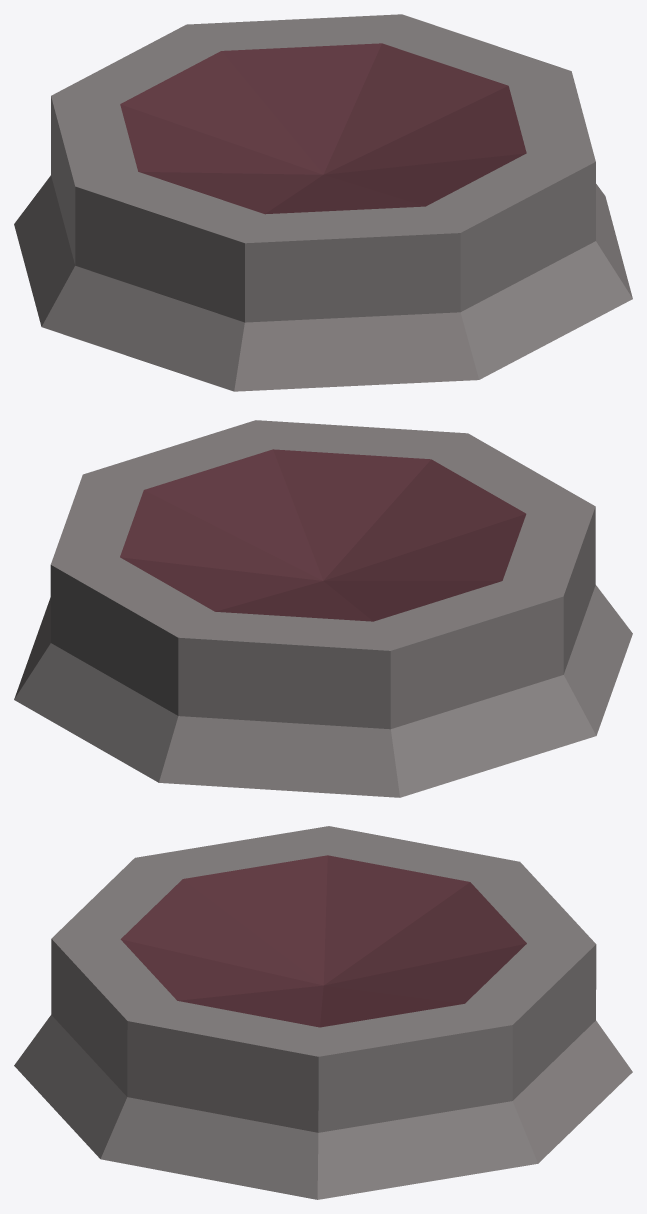
Rendered from train-wheel-apocalypse.fbx.
3 views of the same model, one above another, from view 1: azimuth 30°, elevation 25°; view 2: azimuth 150°, elevation 25°; view 3: azimuth 270°, elevation 25° (orthographic). The views are drawn at different scales.
Parts seen in each view (by area): view 1: train-wheel-apocalypse; view 2: train-wheel-apocalypse; view 3: train-wheel-apocalypse.
Boxes of the visible parts, x1,y1,x2,y2 form: train-wheel-apocalypse: (14,14,632,391); train-wheel-apocalypse: (14,420,632,797); train-wheel-apocalypse: (14,826,632,1199).
Size of the model in its own units: 0.8618 by 0.1979 by 0.8618.
